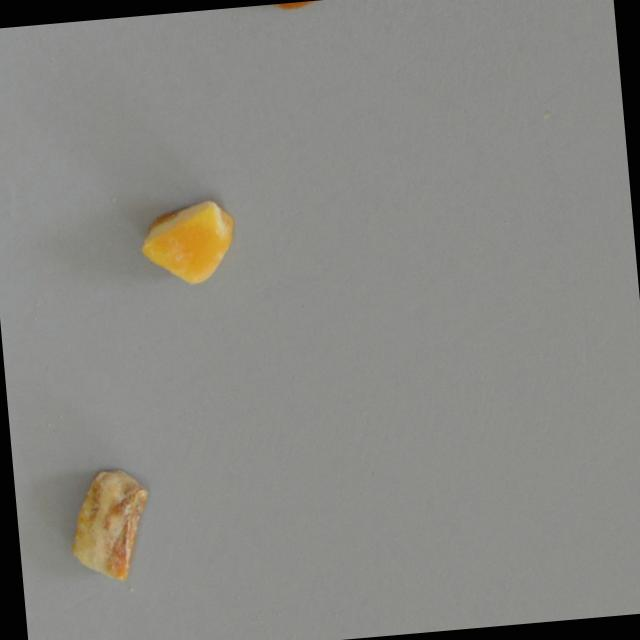dañado: (60, 460, 159, 587), (133, 193, 242, 292), (240, 0, 352, 15)
